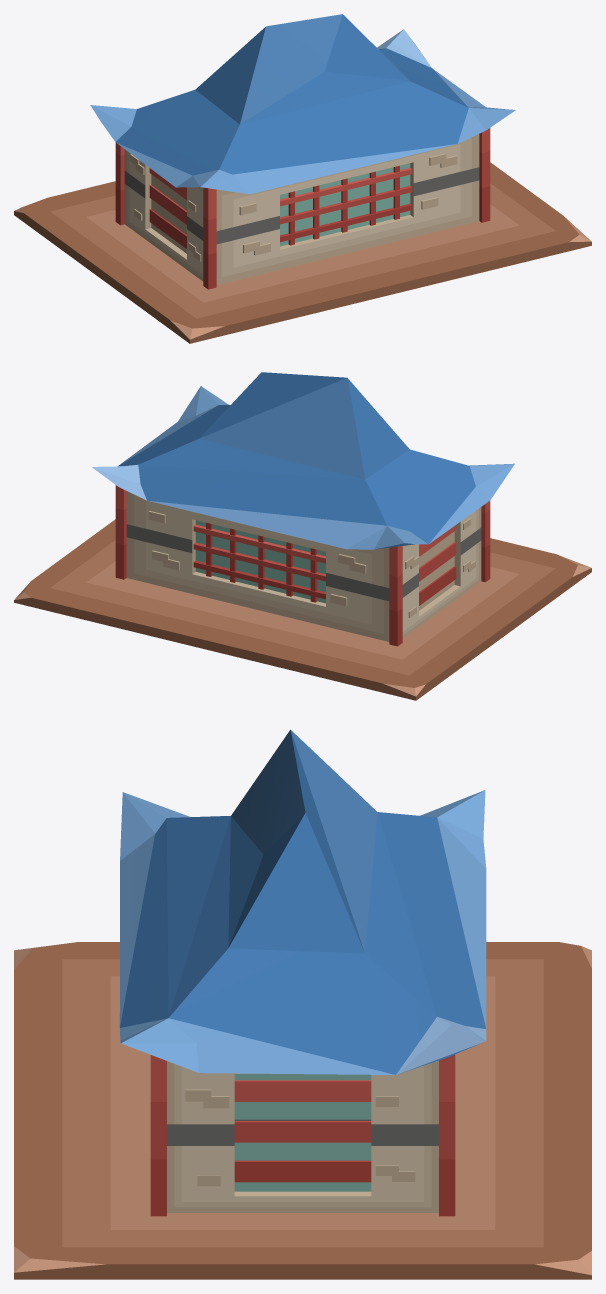
Rendered from building_2.fbx.
3 renders of one model, top to bottom at view 1: azimuth 30°, elevation 25°; view 2: azimuth 150°, elevation 25°; view 3: azimuth 270°, elevation 25°, orthographic. The views are drawn at different scales.
Parts seen in each view (by area): view 1: building_2; view 2: building_2; view 3: building_2.
Part boxes in pixels (x1,y1,x2,y2): building_2: [14, 14, 591, 343]; building_2: [14, 372, 591, 700]; building_2: [14, 729, 591, 1279].
Size of the model in its own units: 1079 by 556 by 817.
